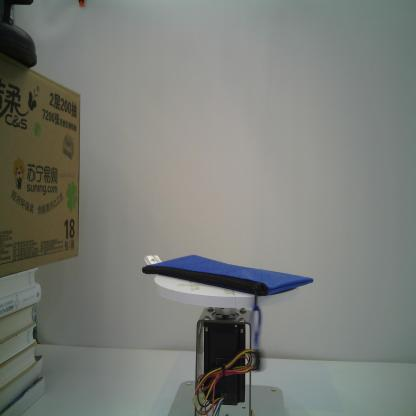Stationery: (139, 252, 315, 373)
